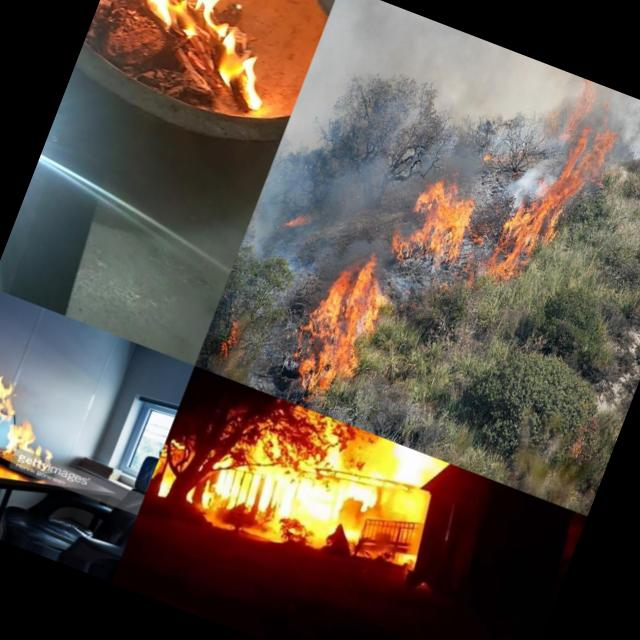fire: (100, 0, 311, 118), (284, 249, 396, 405), (382, 170, 490, 289), (541, 118, 619, 228), (493, 202, 582, 288), (361, 434, 452, 496), (201, 300, 252, 372), (2, 416, 62, 460), (142, 446, 176, 508), (0, 370, 27, 421), (569, 78, 599, 119)
smoke: (240, 0, 395, 268), (402, 28, 542, 197), (343, 6, 454, 164), (307, 142, 417, 266), (524, 66, 581, 144), (584, 84, 640, 160), (499, 146, 558, 213)
